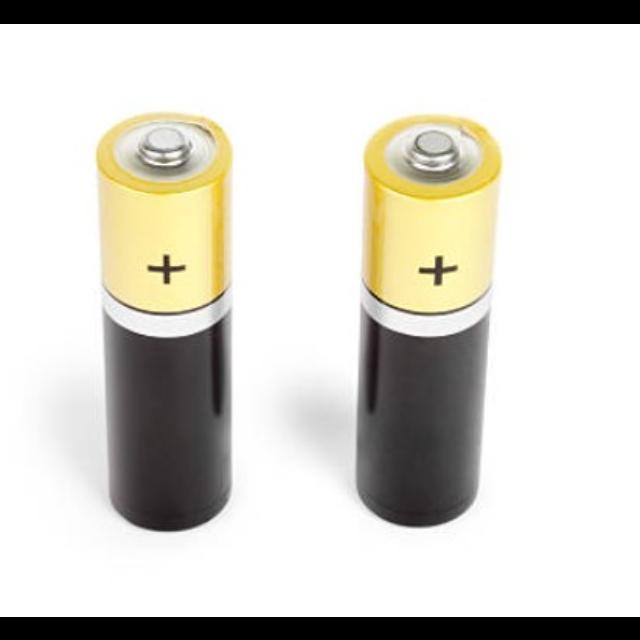Battery: (353, 113, 503, 531), (93, 110, 235, 534)
